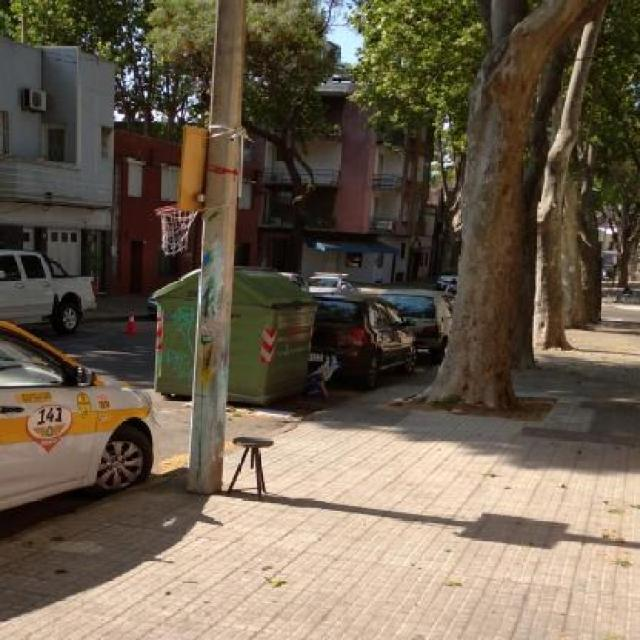garbage: (306, 346, 358, 414)
